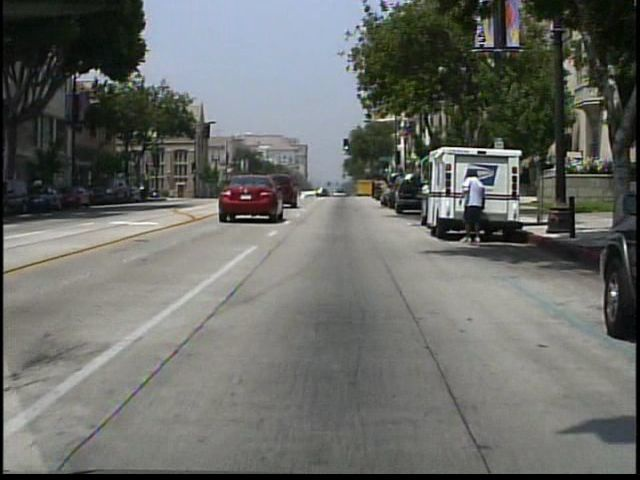person: (456, 168, 490, 244), (379, 172, 388, 210)
